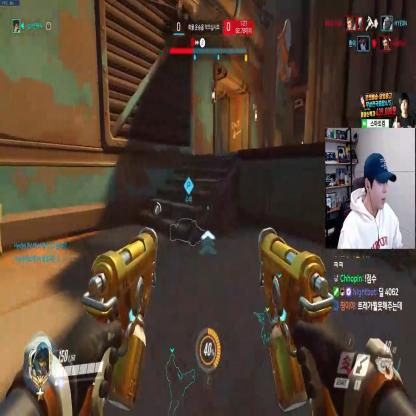streamer: (337, 153, 403, 249)
